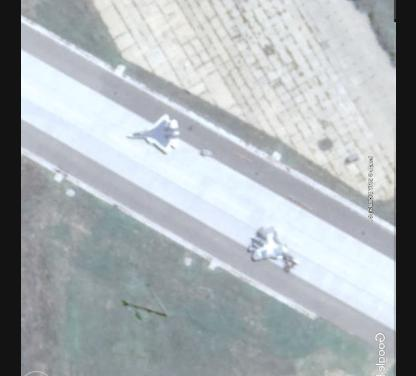SR71: (126, 114, 180, 152), (246, 225, 298, 264)
